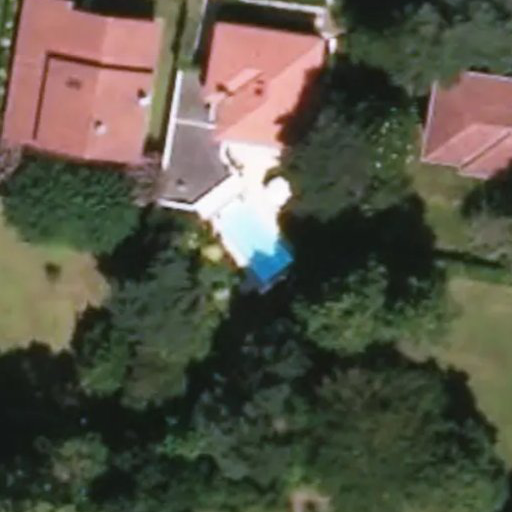pool: (213, 216, 291, 260)
